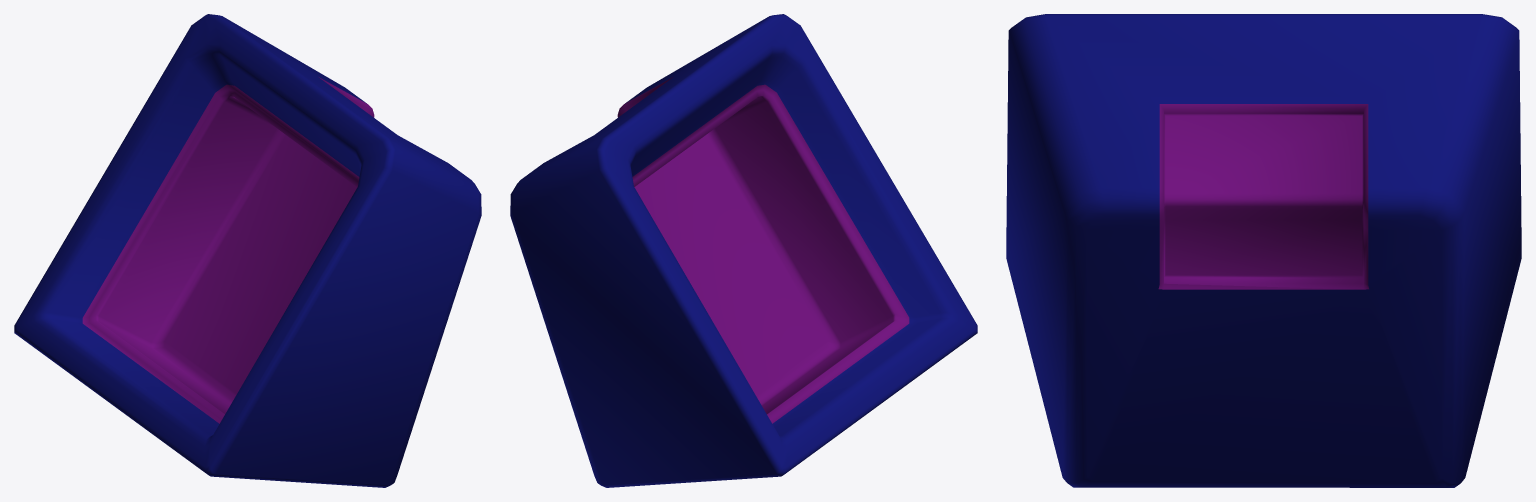
File: Cable_Details_05.fbx
3 renders of one model, left to right at view 1: azimuth 30°, elevation 25°; view 2: azimuth 150°, elevation 25°; view 3: azimuth 270°, elevation 25°, orthographic. The views are drawn at different scales.
Parts seen in each view (by area): view 1: Cable_Details_05; view 2: Cable_Details_05; view 3: Cable_Details_05.
Part boxes in pixels (bbox=[...]): Cable_Details_05: bbox=[14, 14, 481, 487]; Cable_Details_05: bbox=[510, 14, 977, 487]; Cable_Details_05: bbox=[1006, 14, 1521, 487].
Size of the model in its own units: 85.76 by 96.48 by 97.2.
